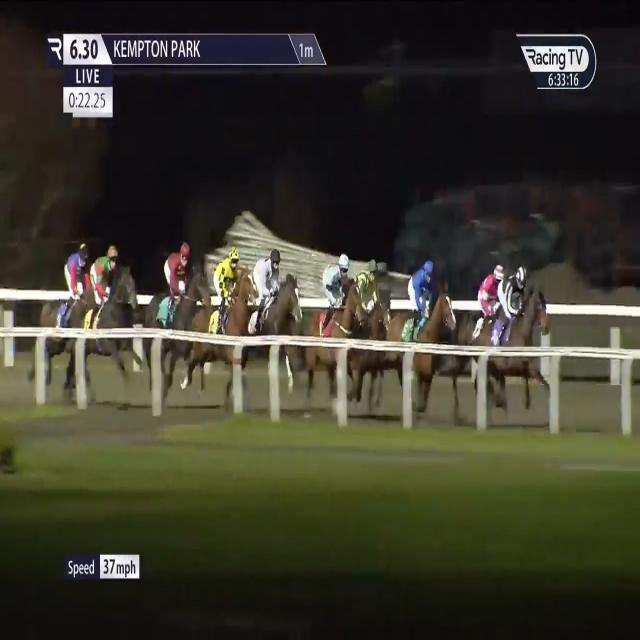horses-racing: (70, 249, 140, 368), (333, 248, 392, 361), (190, 241, 242, 368), (149, 237, 202, 361), (238, 248, 293, 363), (392, 265, 455, 363), (49, 227, 92, 362), (489, 264, 552, 351), (312, 241, 360, 350), (453, 258, 505, 347)
